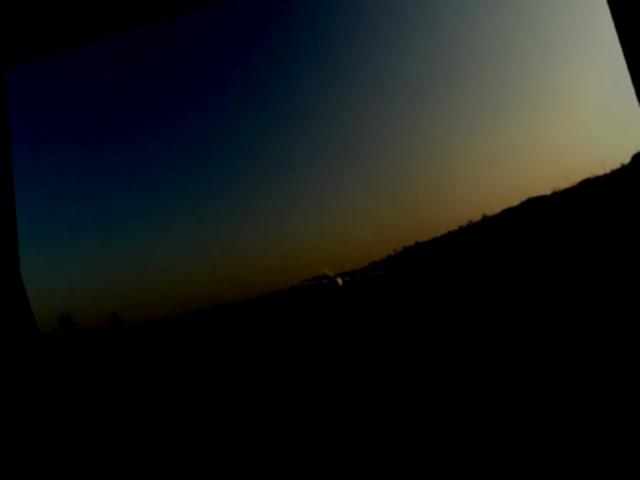uav: (279, 246, 392, 318)
